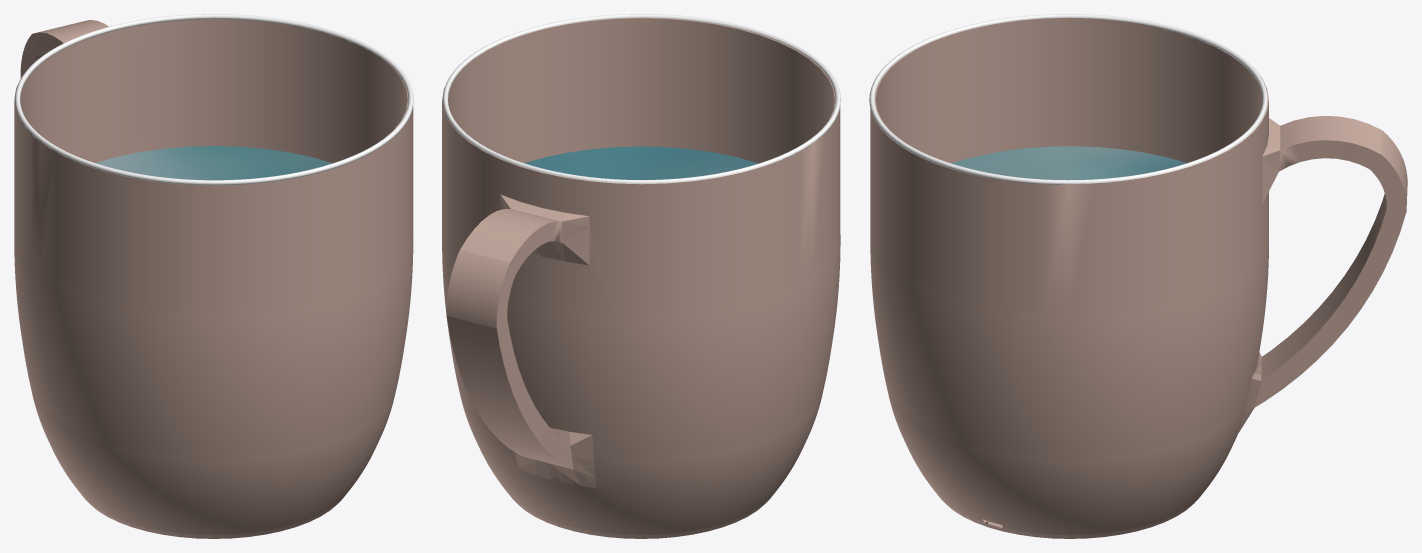
3 views of the same model, side by side, from view 1: azimuth 30°, elevation 25°; view 2: azimuth 150°, elevation 25°; view 3: azimuth 270°, elevation 25° (orthographic).
Parts seen in each view (by area): view 1: mesh1_mesh1-geometry, mesh1_mesh1-geometry_2, mesh1_mesh1-geometry_1; view 2: mesh1_mesh1-geometry, mesh1_mesh1-geometry_2, mesh1_mesh1-geometry_1; view 3: mesh1_mesh1-geometry, mesh1_mesh1-geometry_2, mesh1_mesh1-geometry_1.
Boxes of the visible parts, <box> form: mesh1_mesh1-geometry: <box>14,19,413,538</box>; mesh1_mesh1-geometry_2: <box>96,146,332,180</box>; mesh1_mesh1-geometry_1: <box>15,14,413,185</box>; mesh1_mesh1-geometry: <box>442,17,840,538</box>; mesh1_mesh1-geometry_2: <box>524,146,758,179</box>; mesh1_mesh1-geometry_1: <box>442,14,840,183</box>; mesh1_mesh1-geometry: <box>870,17,1407,538</box>; mesh1_mesh1-geometry_2: <box>951,146,1186,179</box>; mesh1_mesh1-geometry_1: <box>869,14,1267,184</box>.
Size of the model in its own units: 0.5028 by 0.5356 by 0.6785.
Materials: 3 (1 with a texture image).
